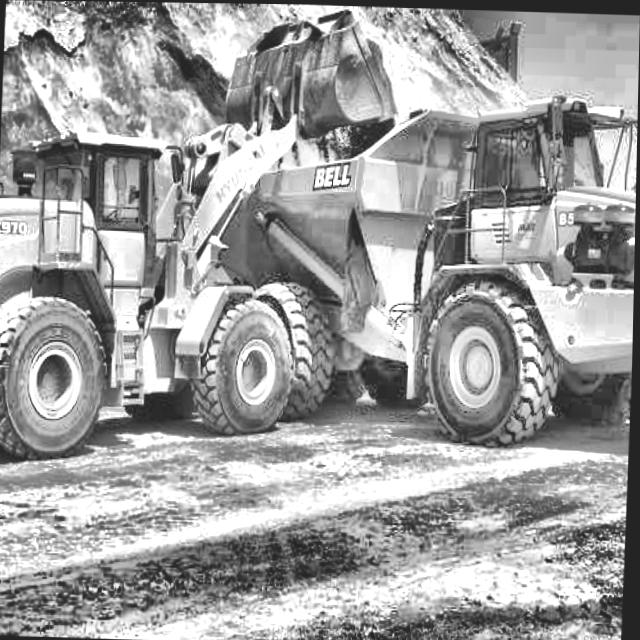buldozerpayloadergrader: (0, 0, 389, 472)
dump_truck: (278, 48, 639, 442)
